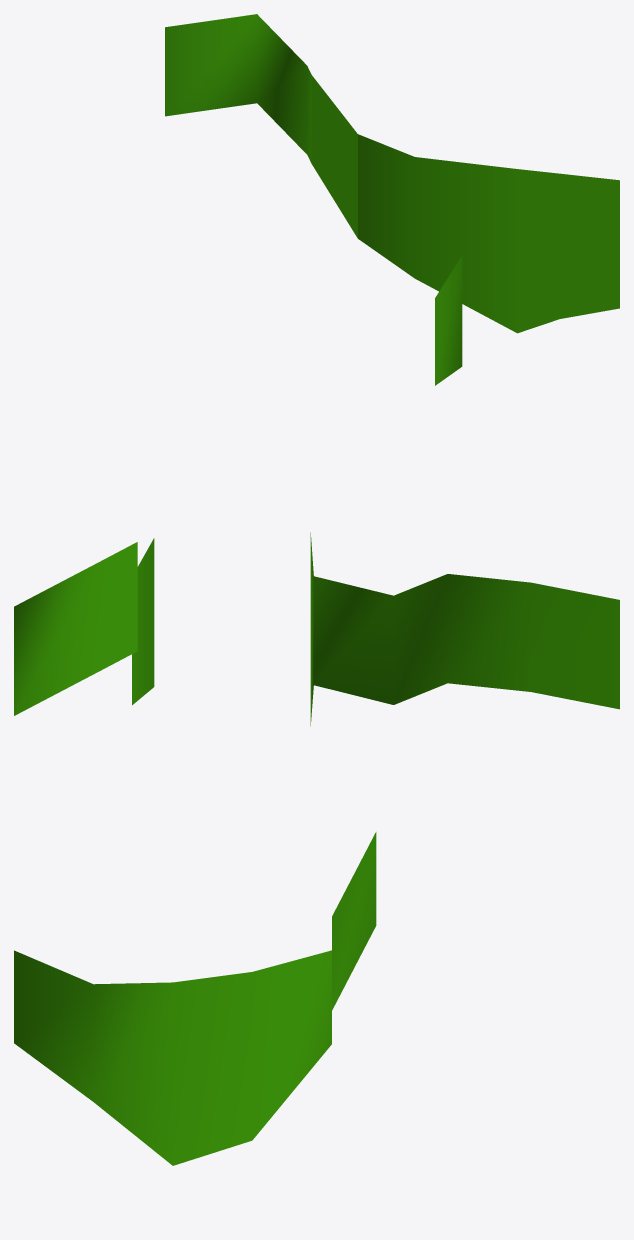
The model's file is M4_InvisPolly1.glb.
3 views of the same model, one above another, from view 1: azimuth 30°, elevation 25°; view 2: azimuth 150°, elevation 25°; view 3: azimuth 270°, elevation 25° (orthographic). The views are drawn at different scales.
Visible parts, largest first — view 1: M4_INVISPOLLY1; view 2: M4_INVISPOLLY1; view 3: M4_INVISPOLLY1.
Part boxes in pixels (x1,y1,x2,y2): M4_INVISPOLLY1: [165, 14, 619, 385]; M4_INVISPOLLY1: [14, 532, 619, 725]; M4_INVISPOLLY1: [14, 832, 376, 1165].
Size of the model in its own units: 32 by 13.63 by 30.5.
